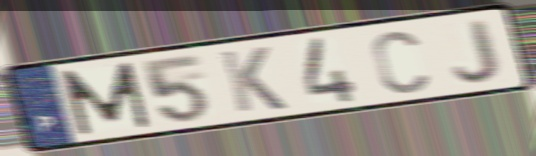4: (303, 35, 358, 105)
5: (137, 51, 215, 125)
C: (369, 29, 431, 97)
J: (450, 16, 503, 85)
K: (216, 44, 291, 115)
M: (56, 59, 154, 138)
